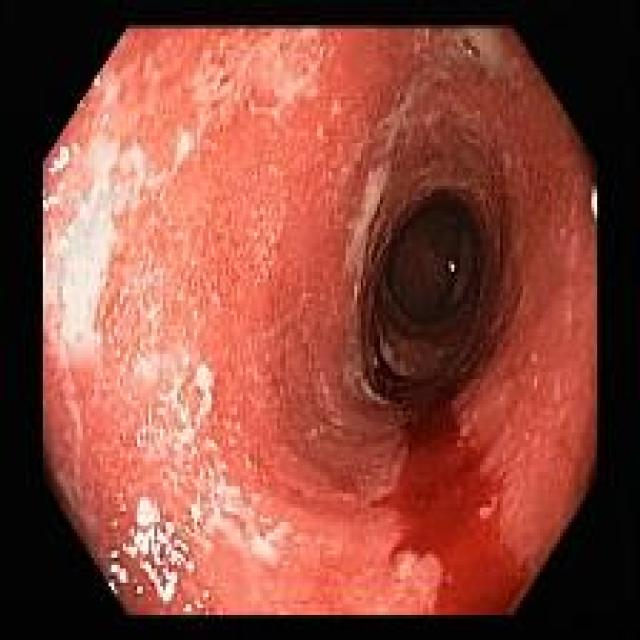ulcerative-colitis: (44, 28, 598, 615)
